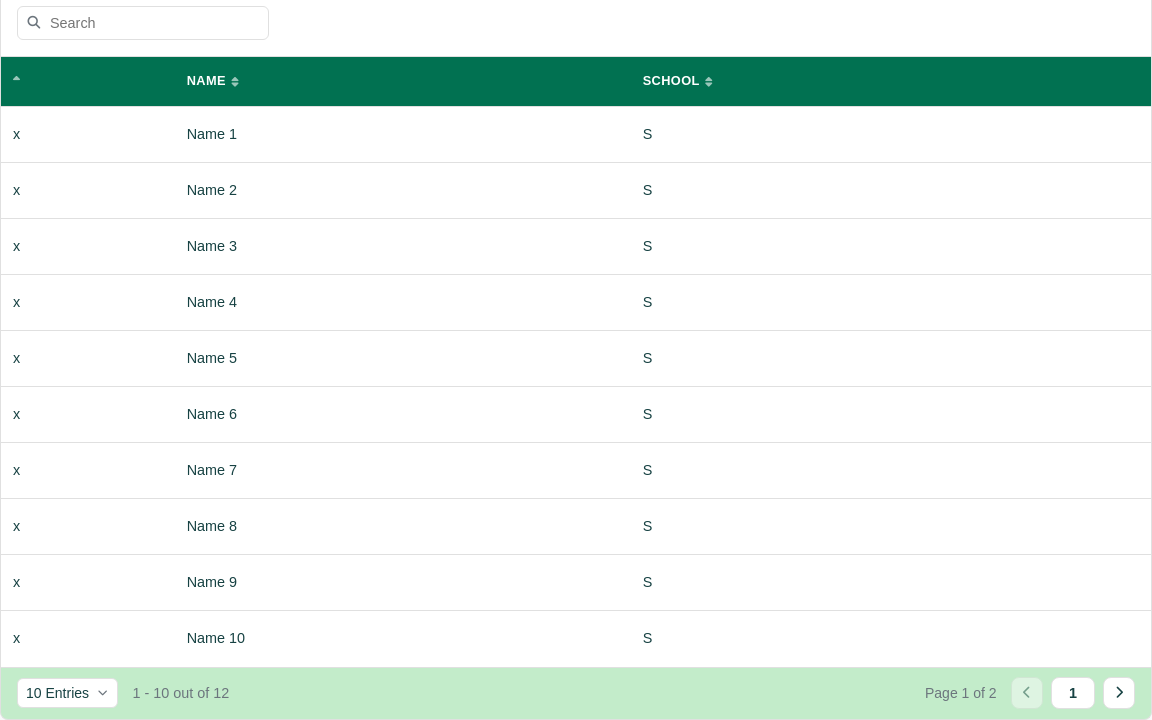
Test: the bottom bar › keeps a picked size as picked, on one page too, and stays on to change it back
Press the mouse on the element with class "app-select" at {"x": 68, "y": 693}, box [17,678,118,708]
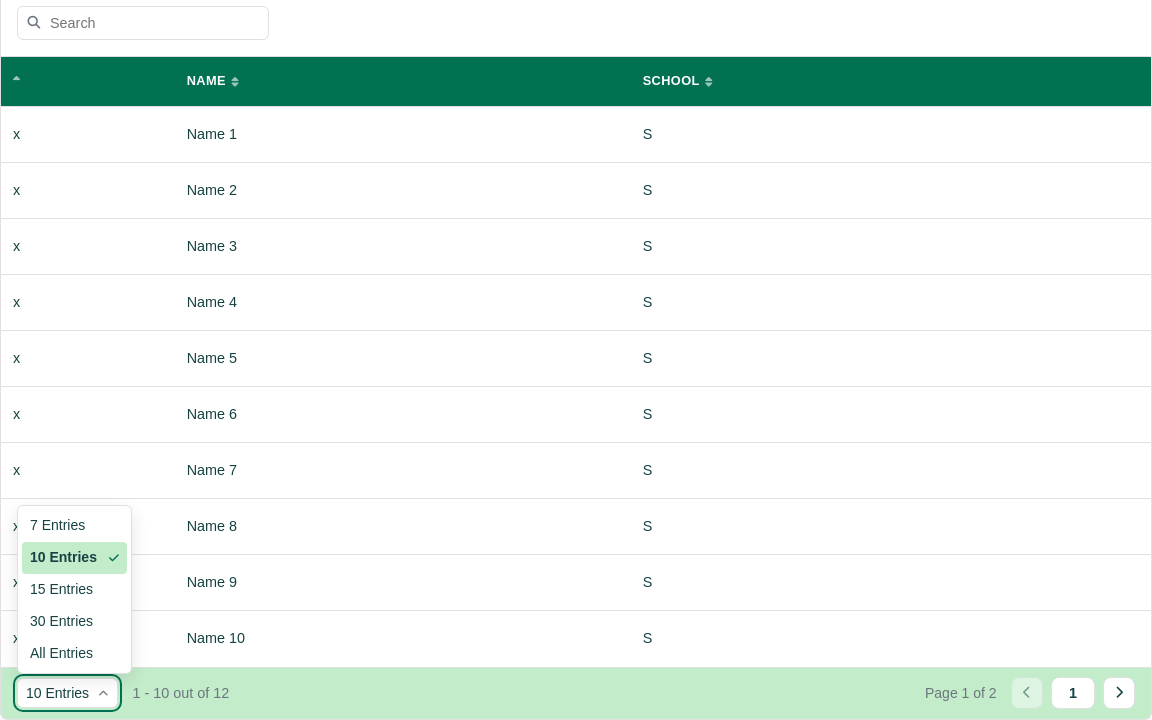
Press the mouse on the option "15 Entries" at {"x": 62, "y": 589}, box [30,581,93,597]
(page scrolled)
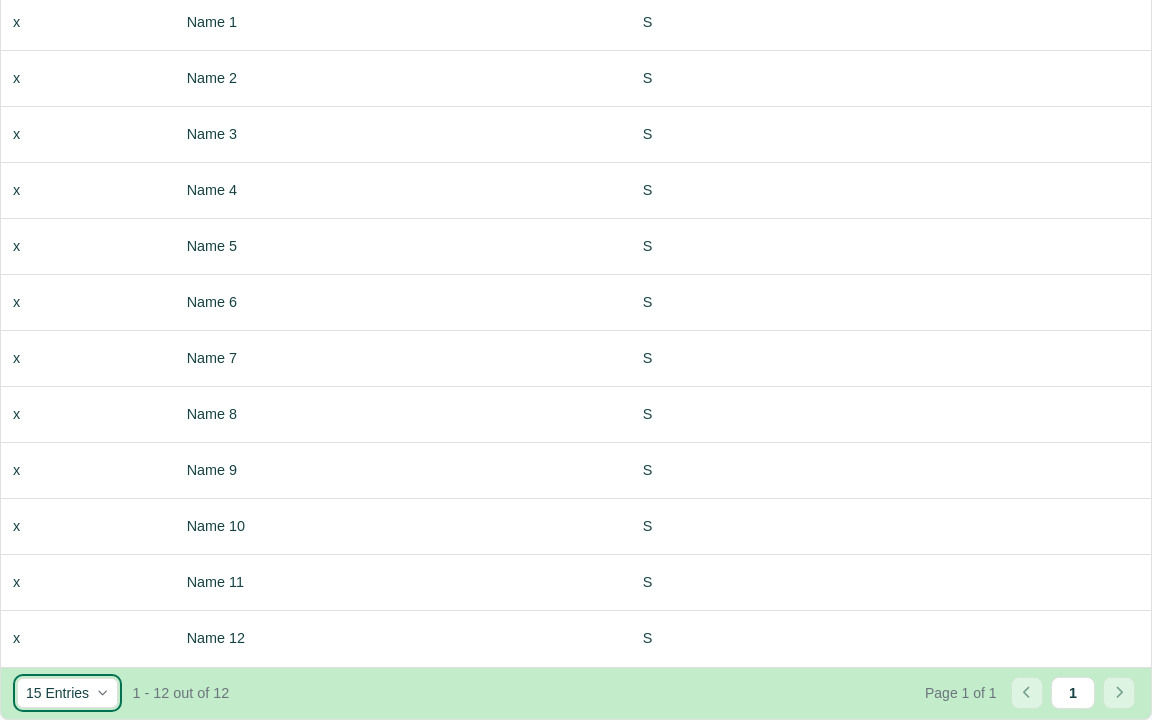
Expected: the text with class "data-table-summary" reads "1 - 12 out of 12", [132,684,229,700]
